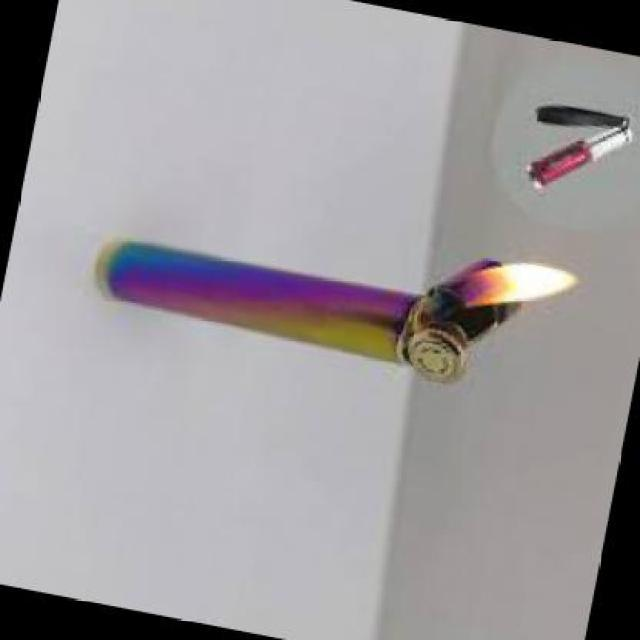Fire: (450, 259, 582, 310)
